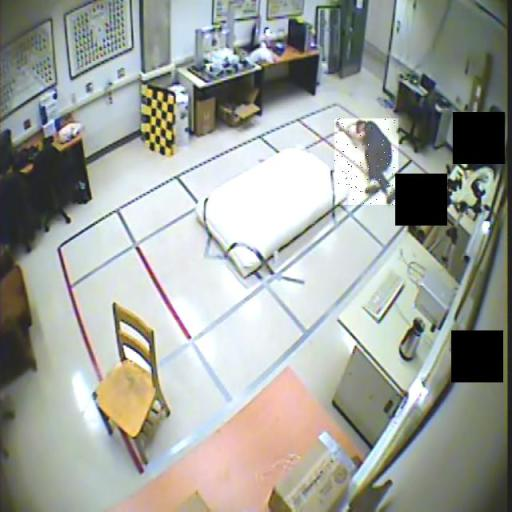Fall: (335, 118, 399, 205)
